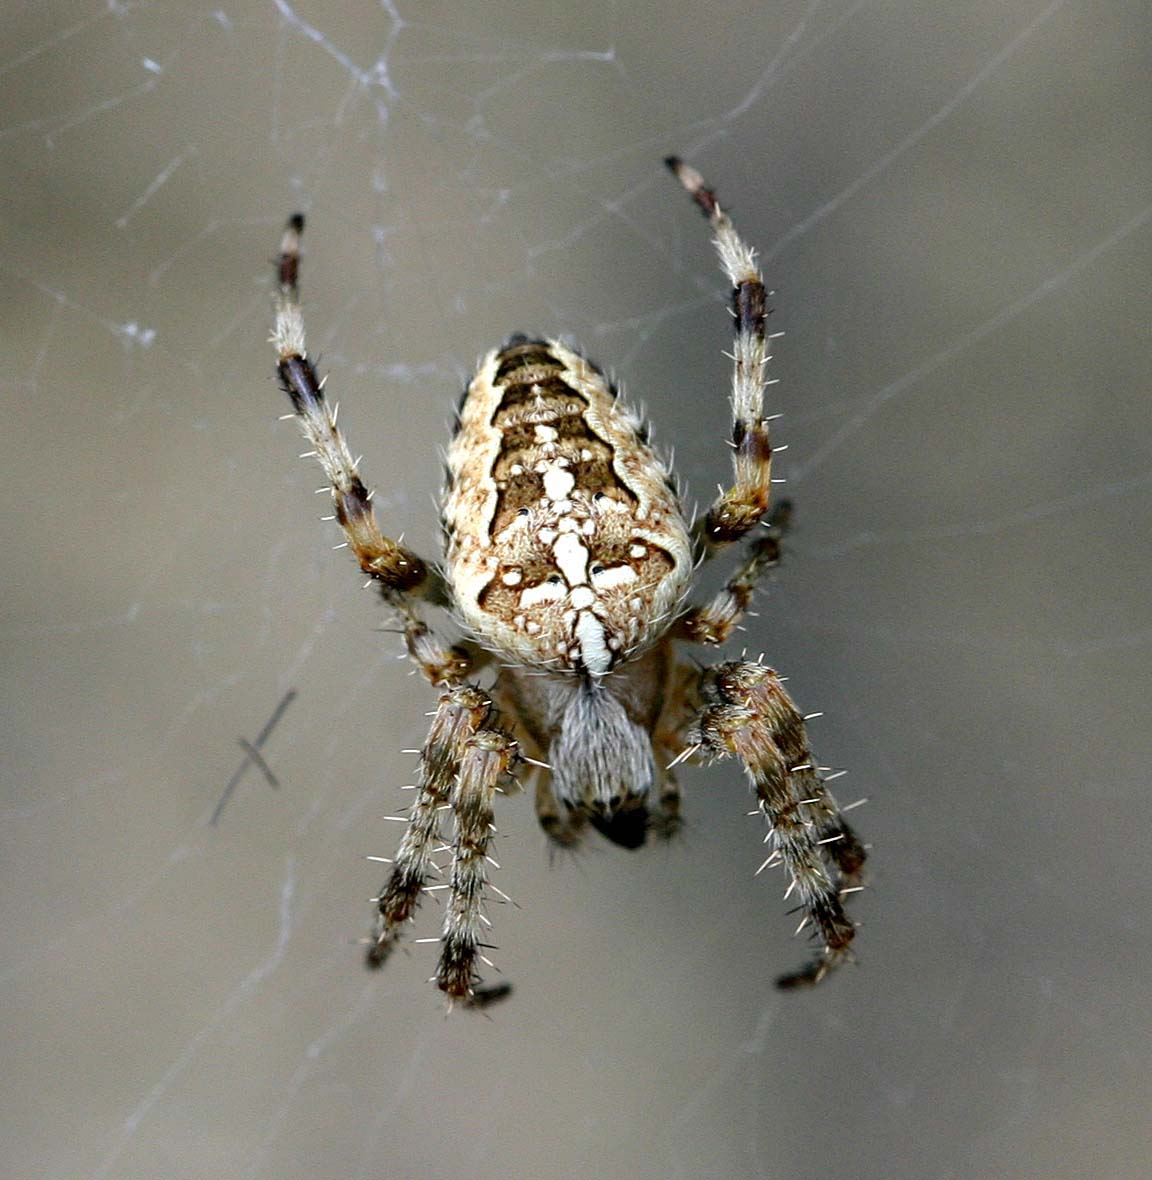spider: (229, 112, 906, 1081)
